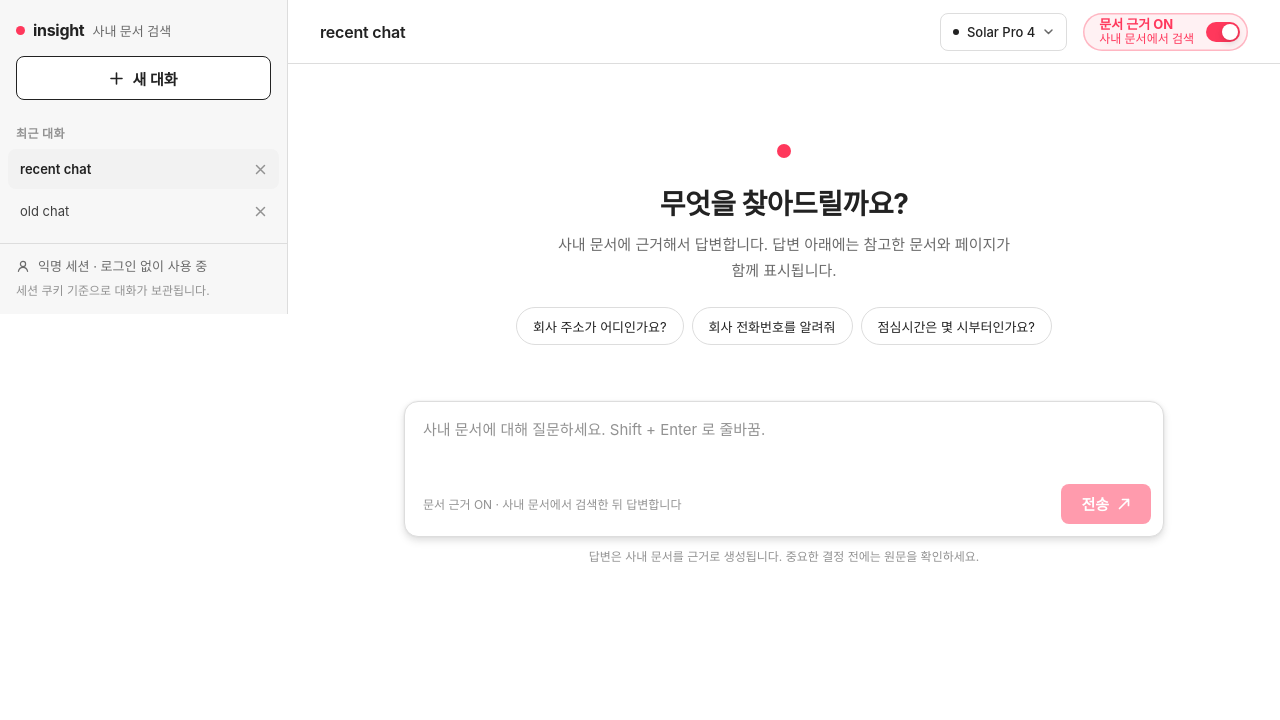
Test: ChatWorkspace › [chat-prototype-port:AC-11] RAG toggle labels are the exact ON/OFF copy, char for char, and flip together with aria-checked
The image size is (1280, 720).
Expected: the text box is enabled, [405,402,1163,476]
Expected: the text "문서 근거 ON" is shown, [1099,16,1173,32]
Click the button "old chat".
click(124, 211)  # box [8,191,241,231]
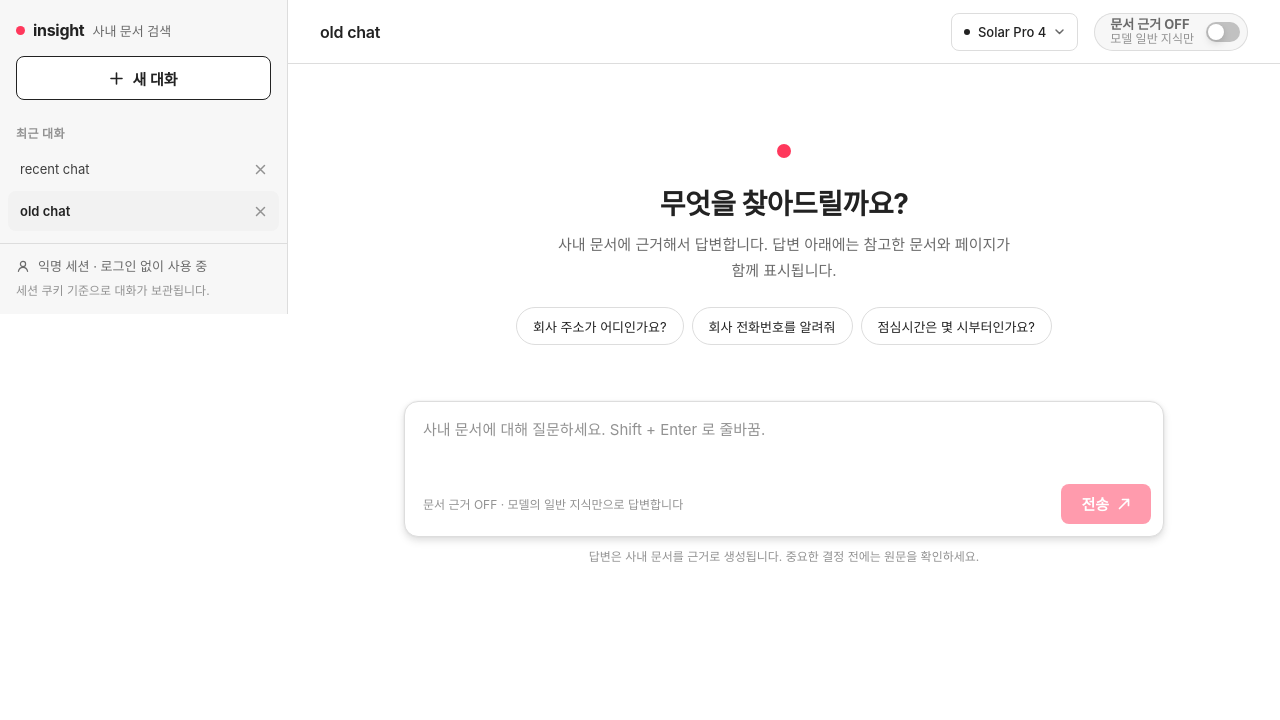
Expected: the text "문서 근거 OFF" is shown, [1110,17,1194,32]
Expected: the text "모델 일반 지식만" is shown, [1110,32,1194,46]
Expected: the switch "문서 근거 ON" is gone
